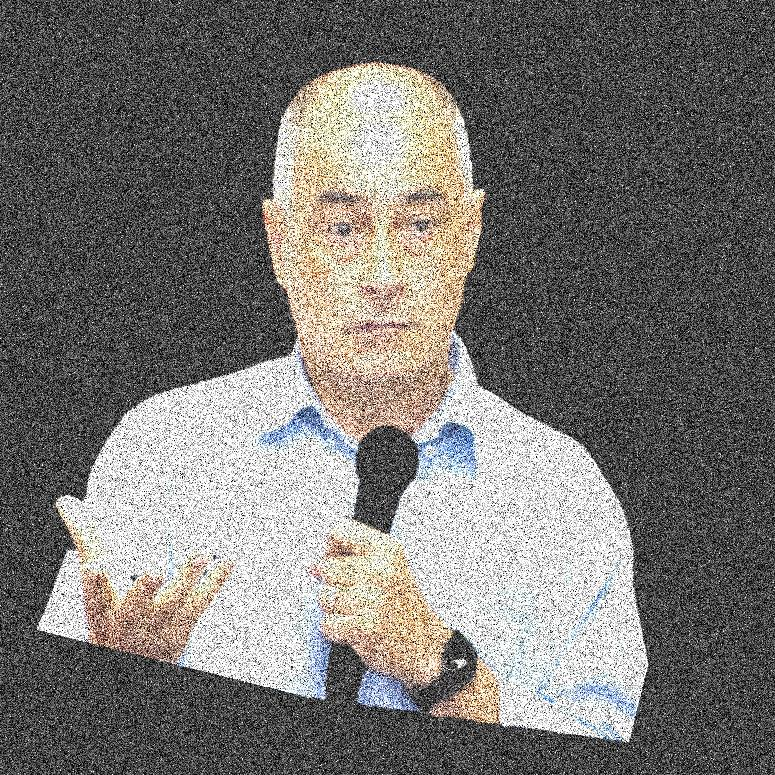Pessoa: (265, 0, 517, 774)
